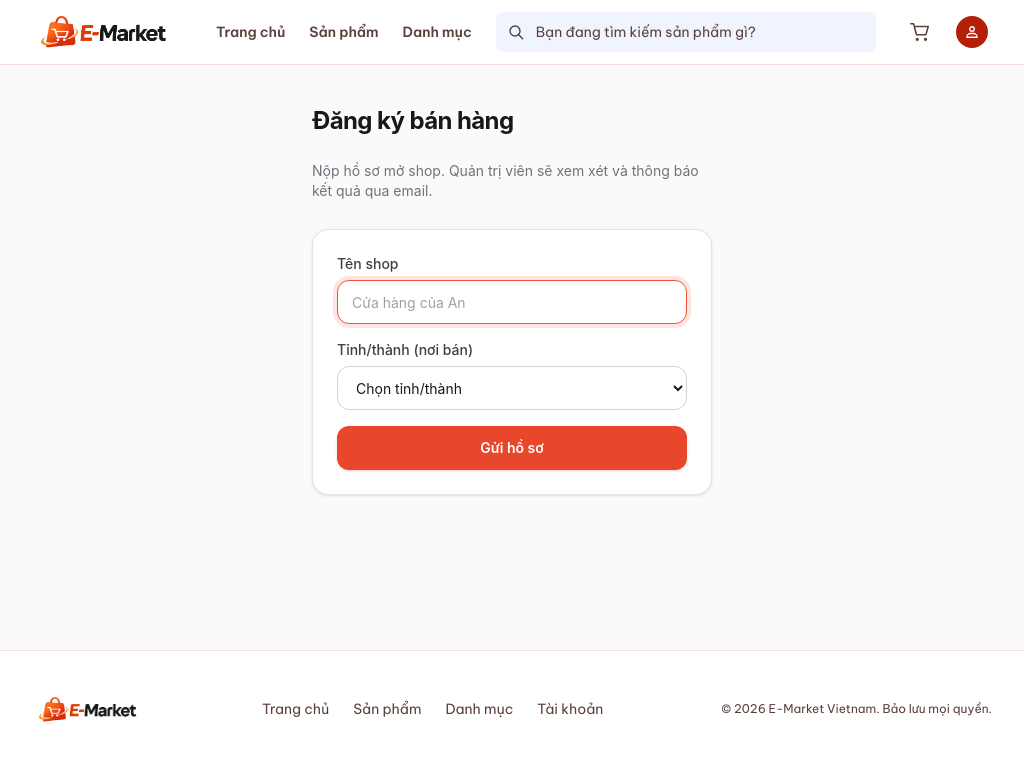
Test: Đăng ký người bán (nộp hồ sơ, chờ duyệt) › nộp hồ sơ thành công thì hiện trạng thái chờ duyệt
Type "Shop An" into the field labelled "Tên shop" at (512, 302), box [337,280,687,324]
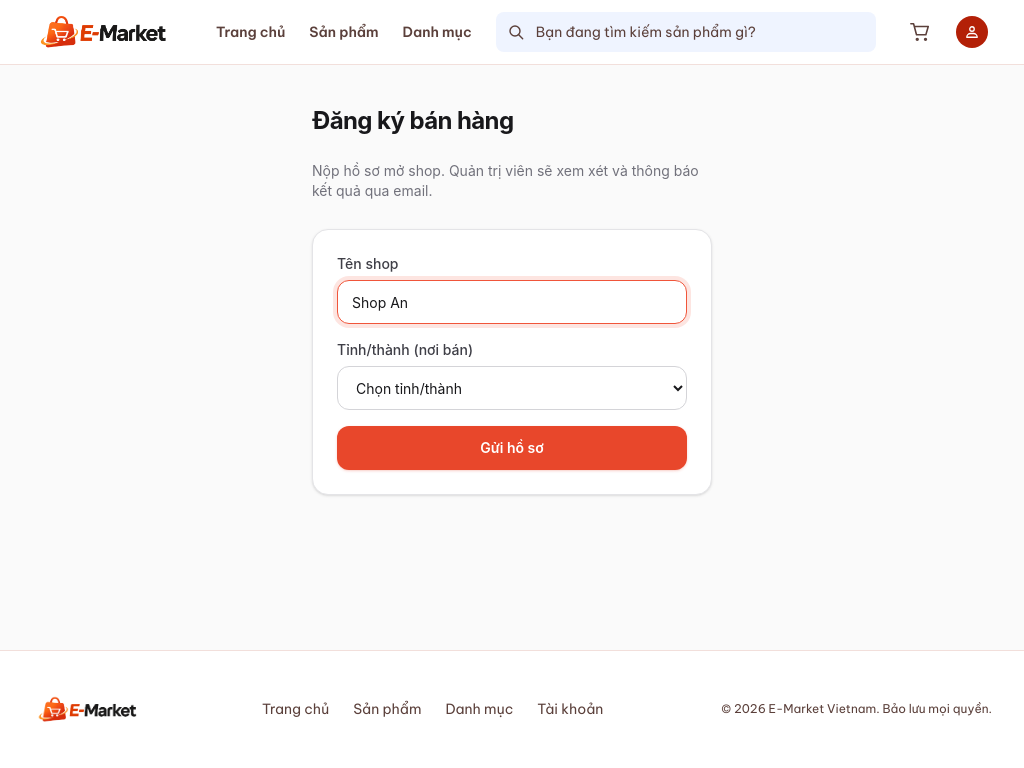
Select "Hà Nội" in the dropdown labelled "Tỉnh/thành (nơi bán)" at (512, 388), box [337,366,687,410]
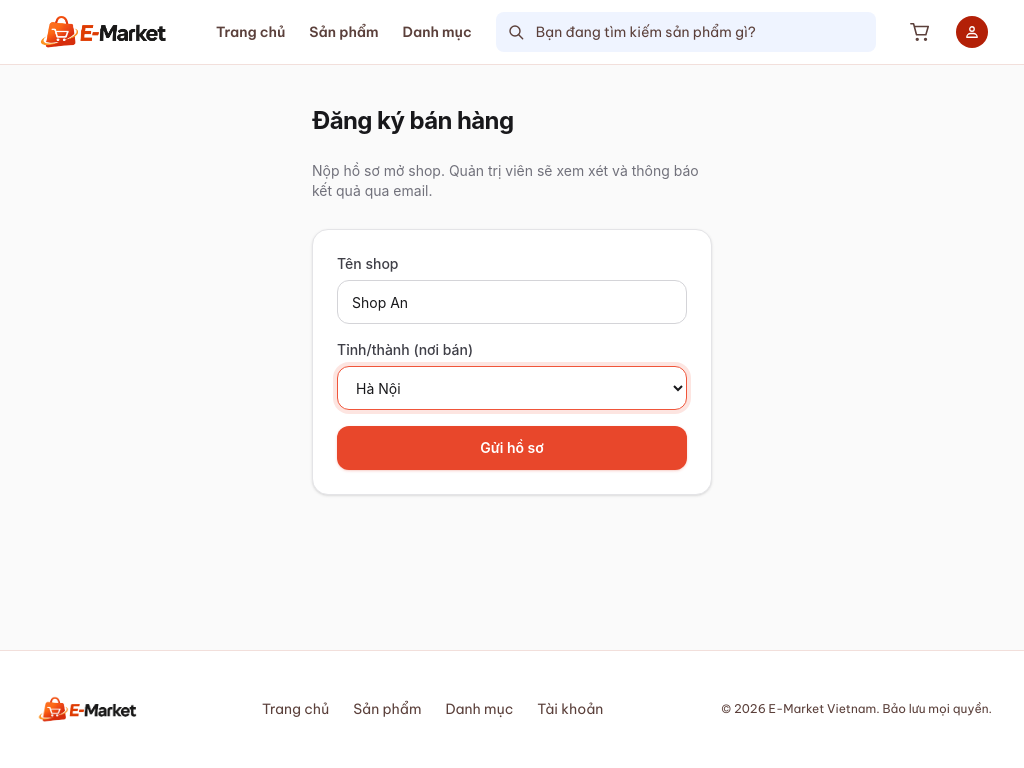
Click the button "Gửi hồ sơ" at (512, 448), box [337,426,687,470]
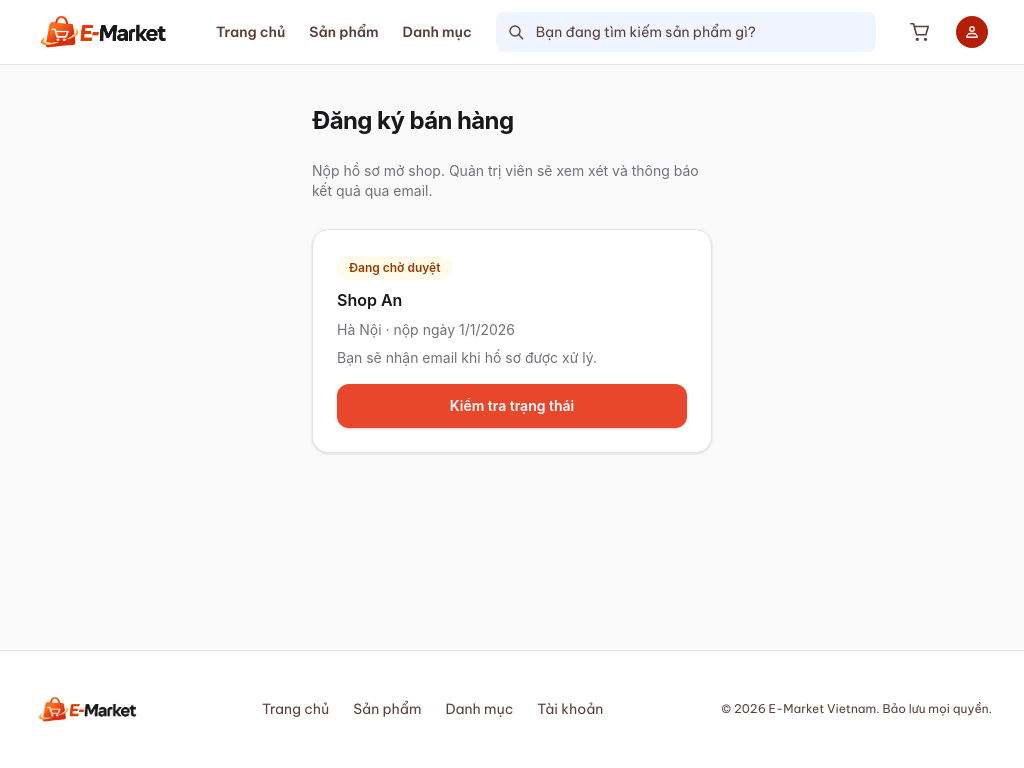
Now the message named "Hồ sơ đang chờ duyệt" shows "Shop An", box [337,290,402,310]
